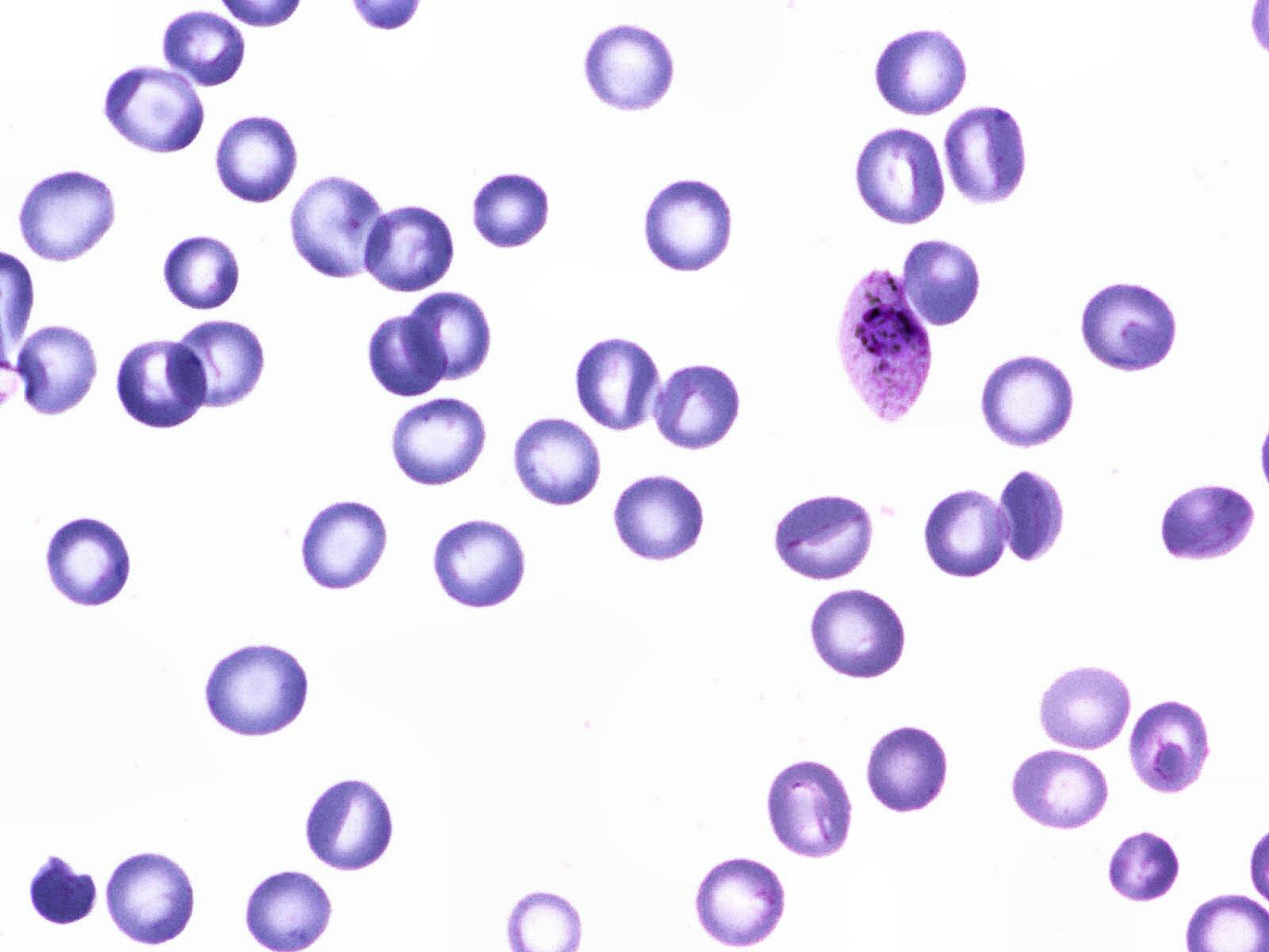Infected: (839, 270, 934, 424)
Uninfected: (289, 169, 396, 286), (197, 639, 313, 742), (809, 584, 911, 686), (13, 167, 118, 264), (429, 514, 530, 613), (100, 60, 205, 154), (389, 392, 485, 493), (168, 317, 270, 412), (765, 752, 854, 860), (508, 414, 608, 509), (872, 25, 972, 120), (770, 494, 877, 582), (980, 352, 1077, 449), (358, 201, 457, 296), (102, 850, 197, 949), (113, 335, 213, 429), (581, 19, 677, 115), (1081, 278, 1178, 373), (304, 776, 396, 874), (642, 175, 733, 274), (613, 471, 708, 565), (854, 129, 947, 225), (44, 512, 134, 608), (297, 499, 387, 595), (1035, 661, 1133, 749), (945, 102, 1026, 207), (1010, 747, 1110, 832), (576, 336, 662, 434), (213, 114, 302, 207), (1127, 701, 1212, 798), (692, 857, 784, 946), (901, 234, 987, 329), (655, 362, 746, 451), (401, 290, 489, 382), (14, 324, 101, 417), (867, 720, 952, 812), (924, 489, 1011, 578), (1161, 486, 1259, 563), (162, 6, 250, 90), (994, 462, 1064, 563), (366, 313, 447, 396), (167, 235, 243, 317), (473, 171, 551, 250), (22, 850, 94, 931), (1107, 827, 1179, 906)
